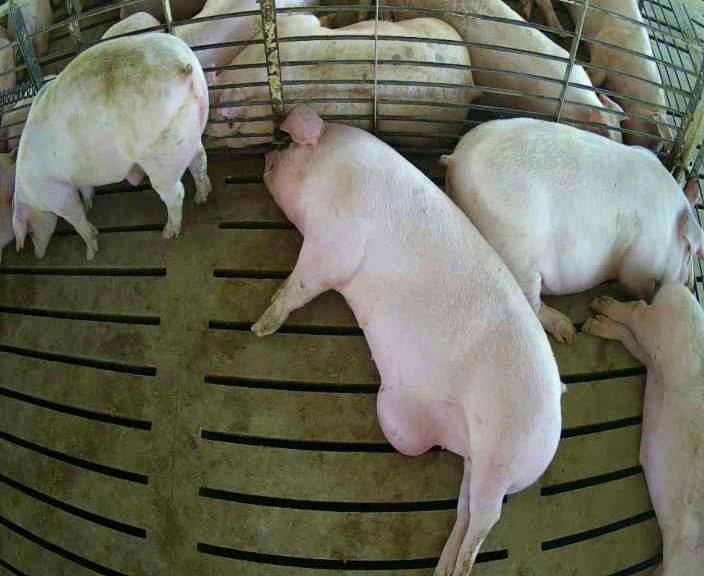pig: (251, 106, 565, 574), (440, 118, 703, 341), (13, 32, 211, 258), (583, 257, 703, 574)
